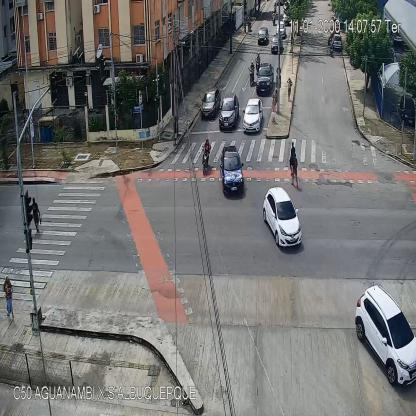car: (355, 284, 416, 384), (262, 187, 303, 249), (220, 147, 244, 196), (242, 97, 263, 137), (219, 95, 239, 129), (256, 62, 274, 95), (200, 90, 220, 117), (271, 35, 282, 54), (257, 28, 269, 44), (276, 21, 286, 38), (332, 36, 342, 50), (283, 9, 291, 25)
motorbike: (202, 135, 212, 175), (254, 53, 260, 78), (249, 58, 254, 86), (272, 10, 276, 26), (274, 2, 276, 13)
person: (31, 198, 42, 234), (5, 278, 14, 319), (291, 153, 299, 187), (290, 142, 297, 179), (271, 94, 277, 124), (287, 76, 292, 101), (327, 37, 331, 55), (247, 16, 251, 31), (249, 7, 252, 21)
